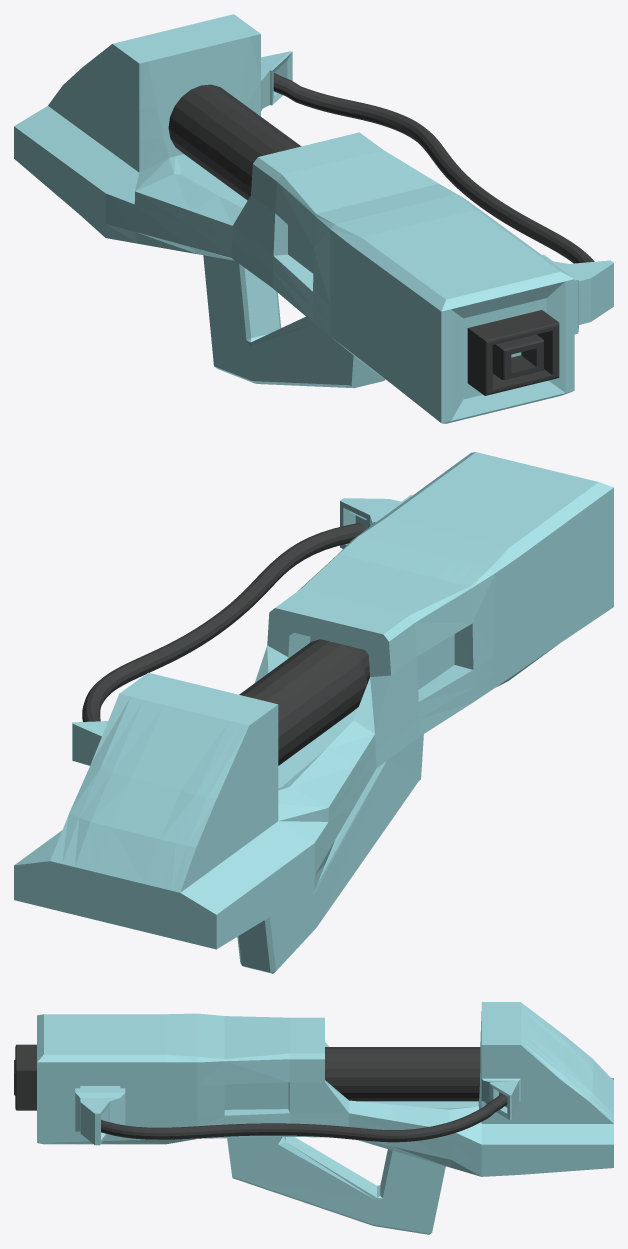
Rendered from gun.fbx.
3 renders of one model, top to bottom at view 1: azimuth 30°, elevation 25°; view 2: azimuth 150°, elevation 25°; view 3: azimuth 270°, elevation 25°, orthographic. The views are drawn at different scales.
Parts seen in each view (by area): view 1: Gun_Body_LP1; view 2: Gun_Body_LP1; view 3: Gun_Body_LP1.
Boxes of the visible parts, x1,y1,x2,y2 form: Gun_Body_LP1: (14, 14, 613, 423); Gun_Body_LP1: (14, 452, 613, 973); Gun_Body_LP1: (14, 1002, 613, 1234).
Size of the model in its own units: 3.9 by 4.14 by 10.8.
